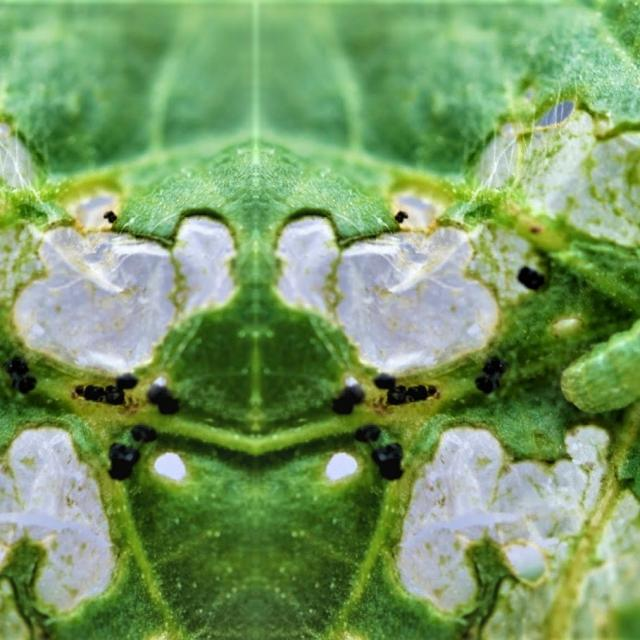Armyworm_damage: (385, 400, 634, 640), (7, 185, 262, 398), (283, 177, 517, 396), (478, 73, 640, 257), (1, 421, 122, 607)
